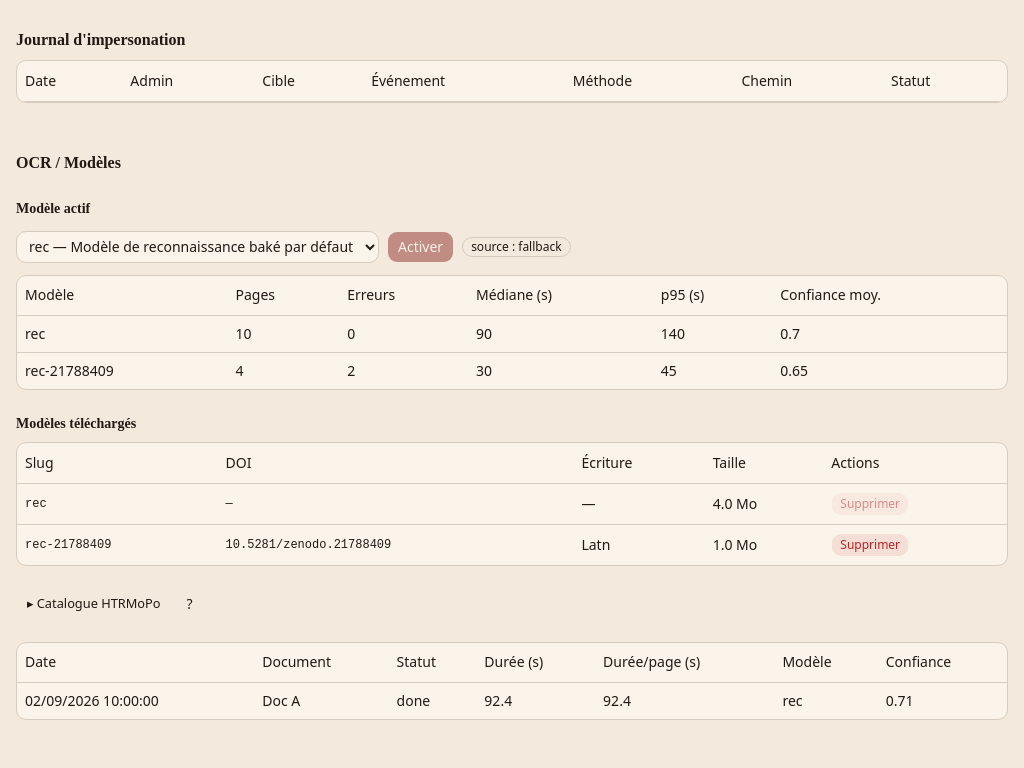
Scenario: pulling a model polls the job then refreshes the panel
The width and height of the screenshot is (1024, 768).
(page scrolled)
Click the button "▸ Catalogue HTRMoPo".
click(94, 604)  # box [16,590,172,618]
(page scrolled)
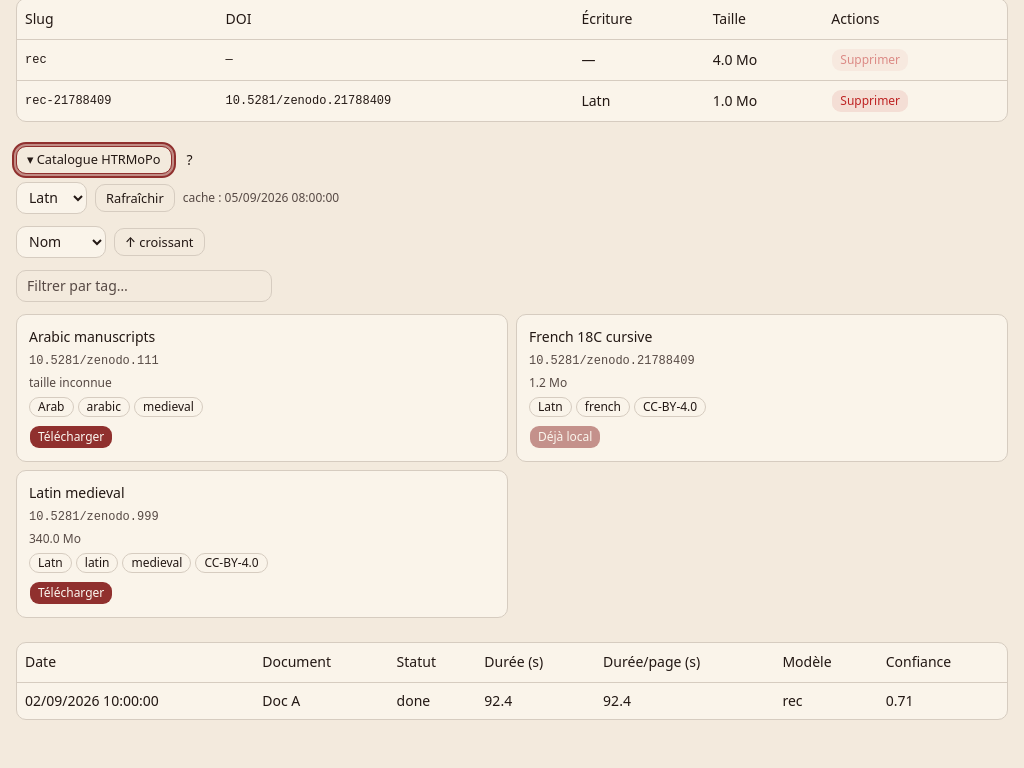
Click the button "Télécharger" below "340.0 Mo".
click(71, 593)  # box [29,581,113,605]
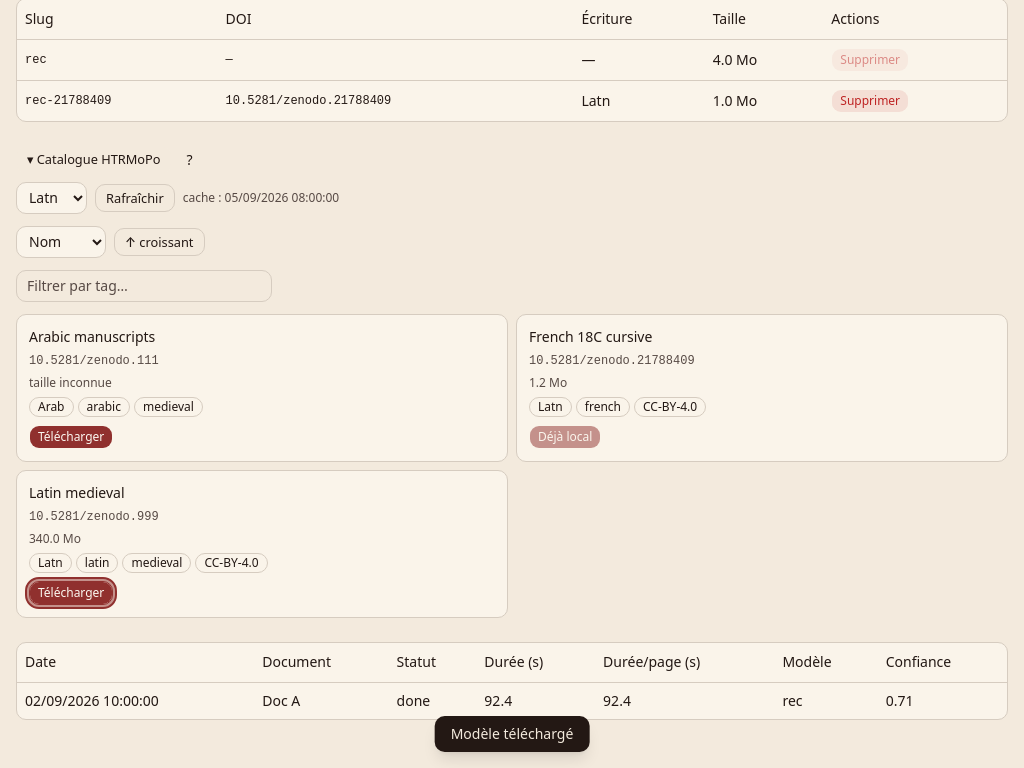
Now the text "Modèle téléchargé" is shown, box [435,716,589,752]
